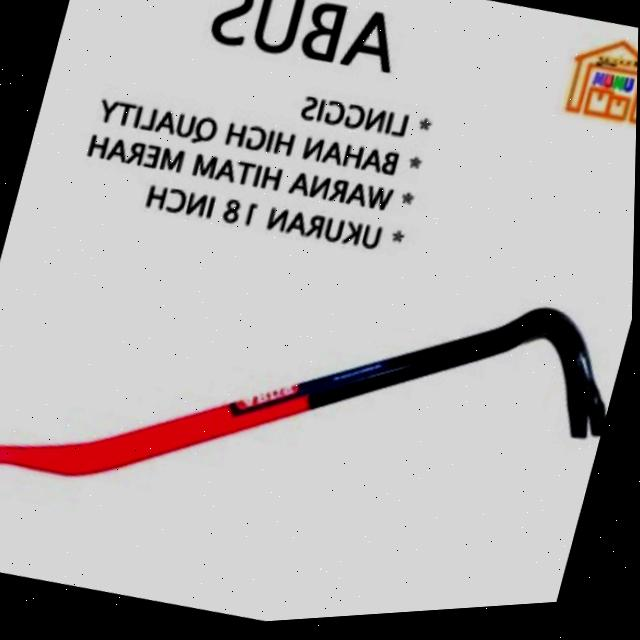crow bar: (0, 300, 609, 508)
